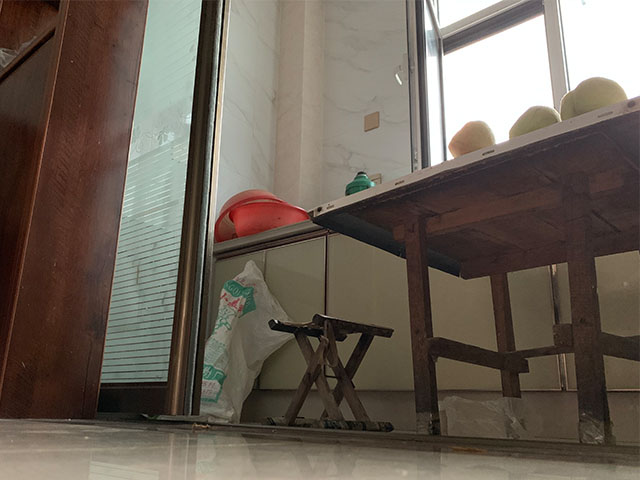cabinet: (201, 218, 326, 438)
stool: (260, 313, 396, 433)
table: (304, 97, 640, 447)
